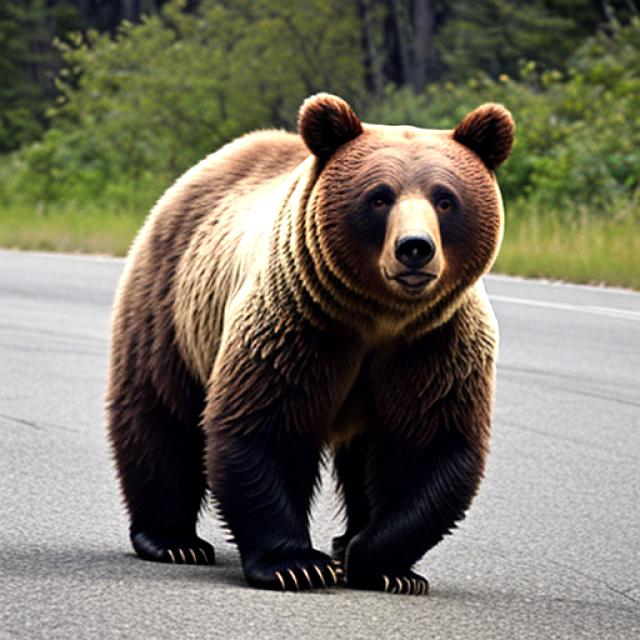bear: (103, 105, 506, 586)
